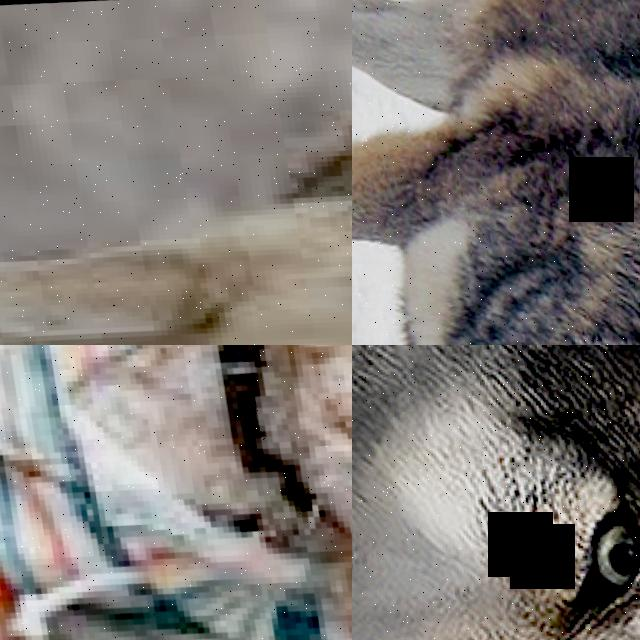dog: (0, 345, 352, 640)
wolf: (0, 0, 352, 345), (352, 0, 640, 345), (352, 345, 640, 640)
